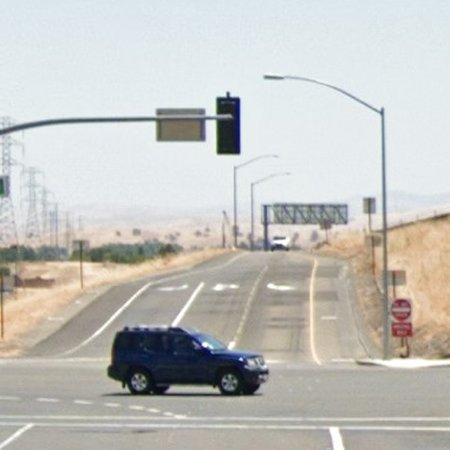traffic lights: (216, 96, 242, 156)
